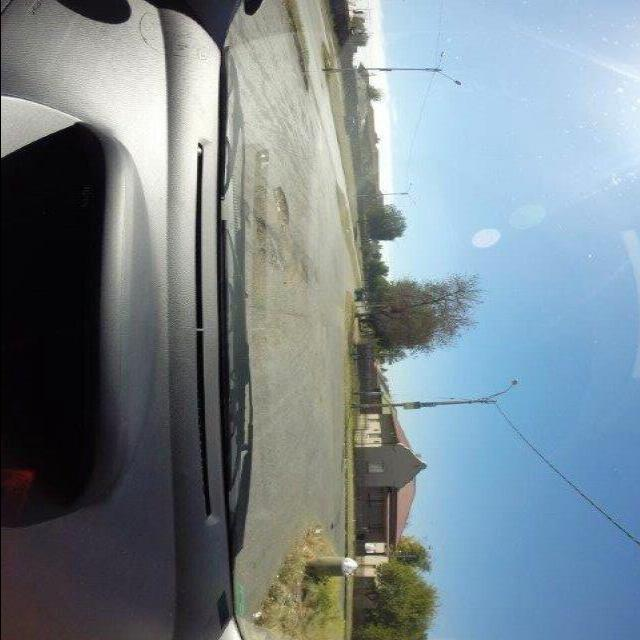lubang: (250, 182, 270, 282), (274, 183, 290, 228), (292, 250, 312, 286)
